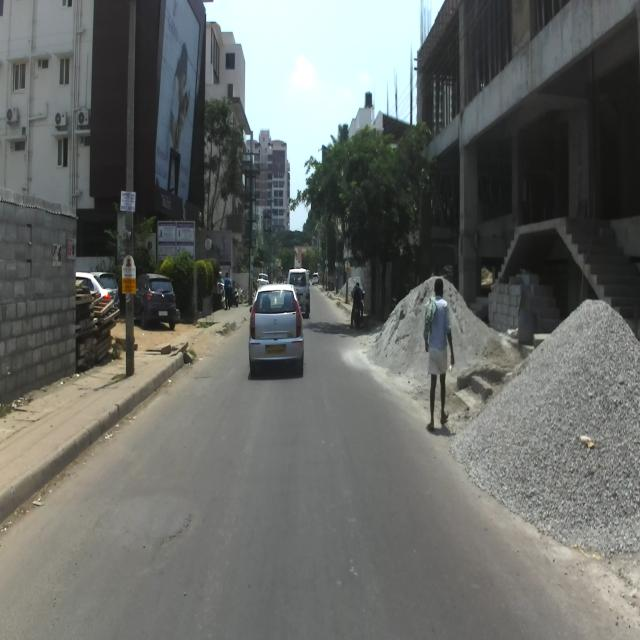car ahead at: (247, 279, 305, 380)
electric pole ahead at: (118, 0, 146, 373)
person ahead at: (425, 277, 456, 432)
